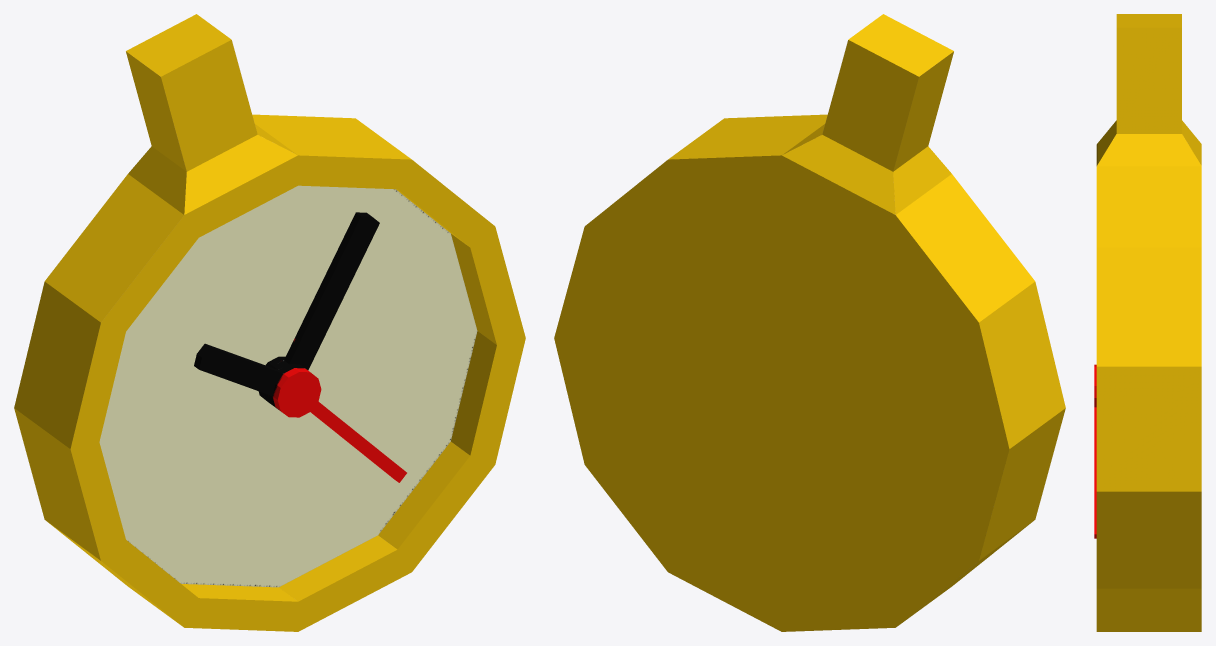
The model's file is pocket2.glb.
3 views of the same model, side by side, from view 1: azimuth 30°, elevation 25°; view 2: azimuth 150°, elevation 25°; view 3: azimuth 270°, elevation 25° (orthographic). The views are drawn at different scales.
Parts seen in each view (by area): view 1: Pocket; view 2: Pocket; view 3: Pocket.
Part boxes in pixels (left/top/right/bottom): Pocket: left=14, top=14, right=525, bottom=631; Pocket: left=554, top=14, right=1065, bottom=631; Pocket: left=1094, top=14, right=1201, bottom=631.
Size of the model in its own units: 0.6 by 0.753 by 0.1319.
Materials: 1 (1 with a texture image).
